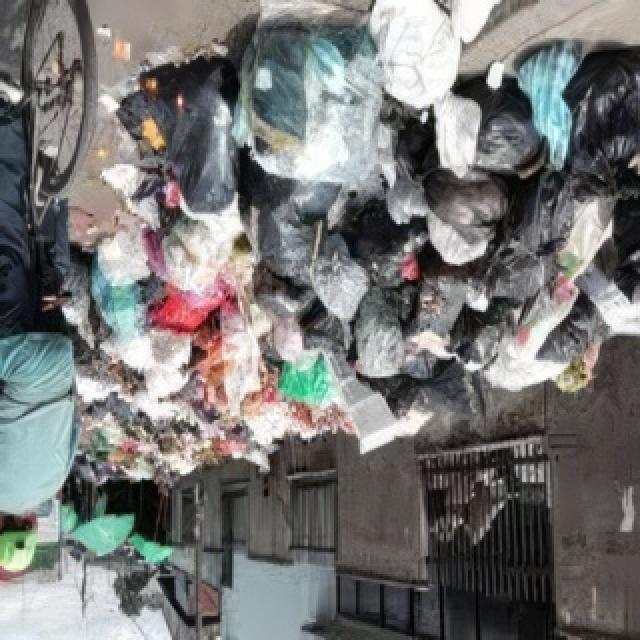high trash: (78, 0, 640, 479)
